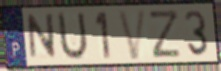1: (94, 10, 113, 61)
3: (184, 9, 210, 57)
N: (26, 12, 58, 62)
U: (57, 10, 90, 63)
V: (116, 8, 149, 62)
Z: (147, 9, 182, 60)
